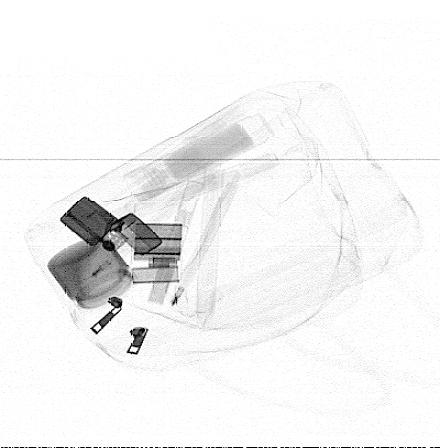Lighter: (58, 196, 164, 254)
